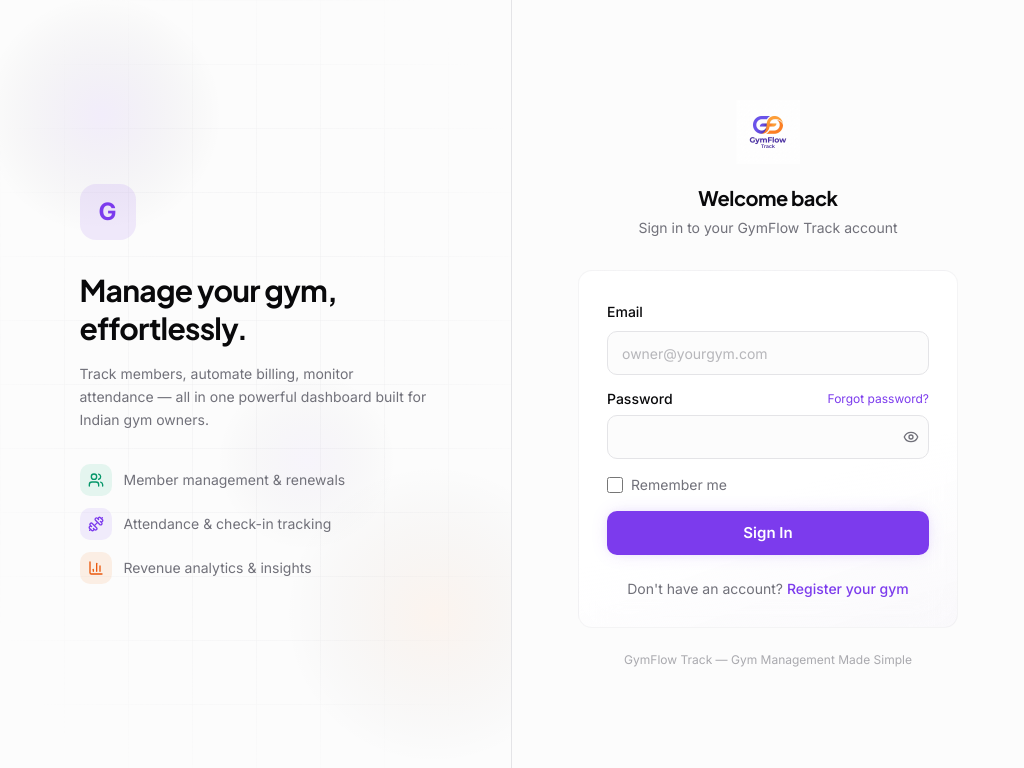
Test case: LoginPage › shows validation errors for empty submission
Click the button "Sign In".
click(768, 533)  # box [607,511,929,555]
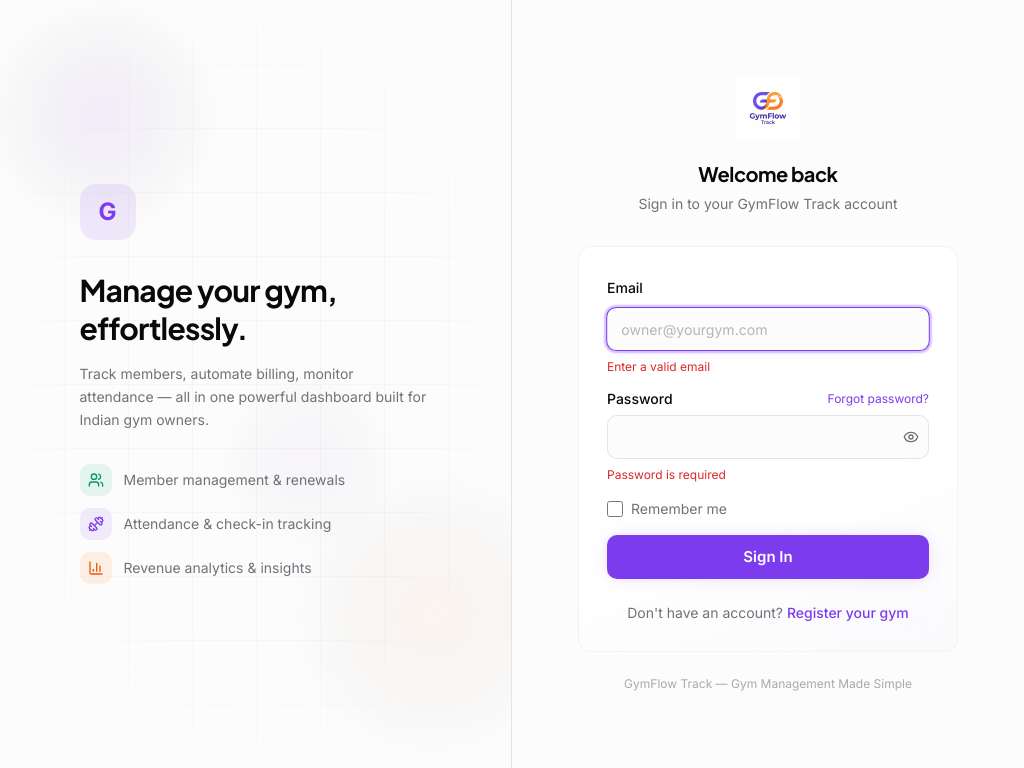
Expected: the text "Enter a valid email" is shown, [607,359,710,374]
